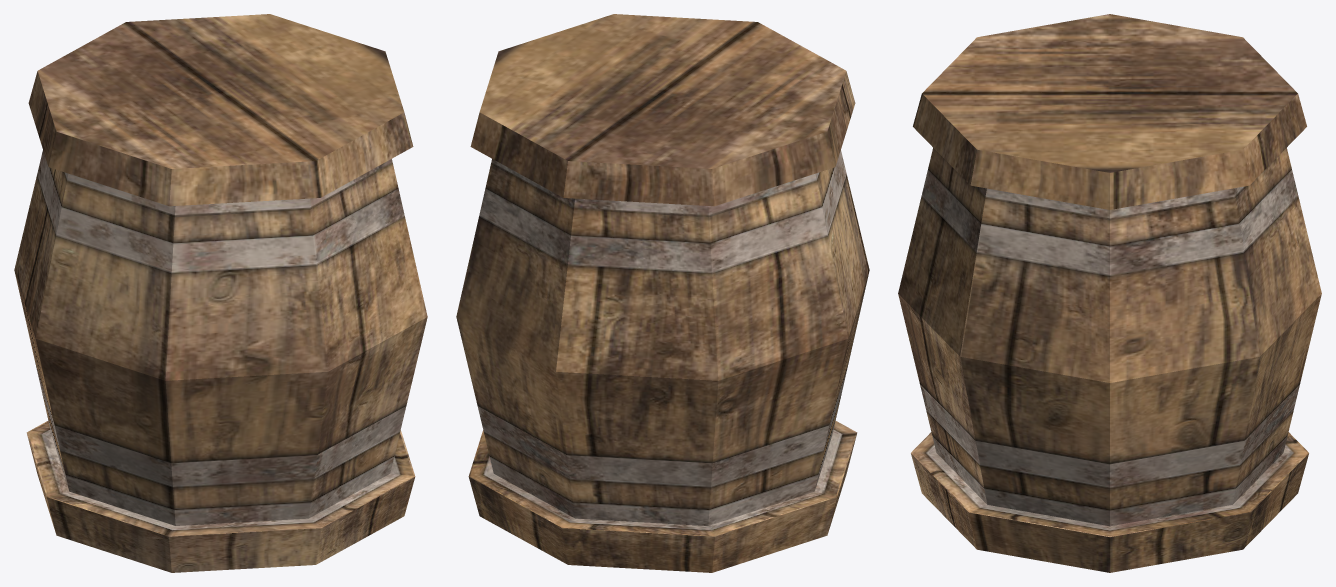
The model's file is Barrell.fbx.
3 renders of one model, left to right at view 1: azimuth 30°, elevation 25°; view 2: azimuth 150°, elevation 25°; view 3: azimuth 270°, elevation 25°, orthographic.
Visible parts, largest first — view 1: Circle; view 2: Circle; view 3: Circle.
Boxes of the visible parts, x1,y1,x2,y2 form: Circle: [14, 14, 427, 572]; Circle: [456, 14, 869, 572]; Circle: [898, 14, 1321, 572].
Size of the model in its own units: 125 by 130 by 125.
